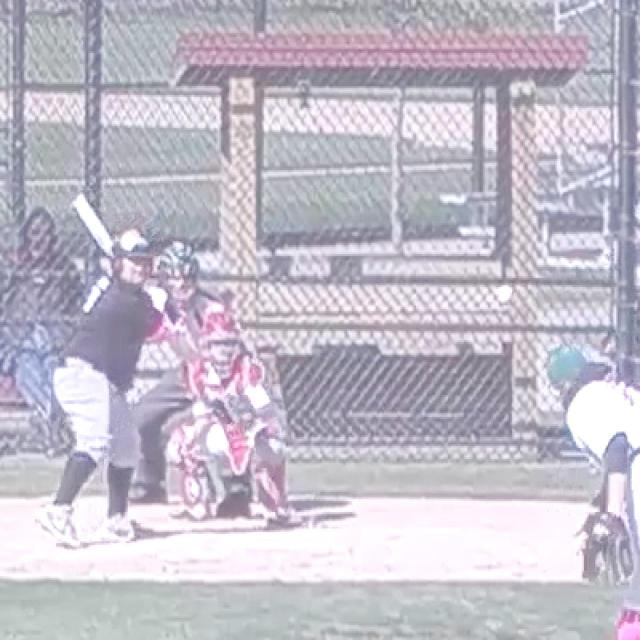baseball: (499, 287, 513, 302)
